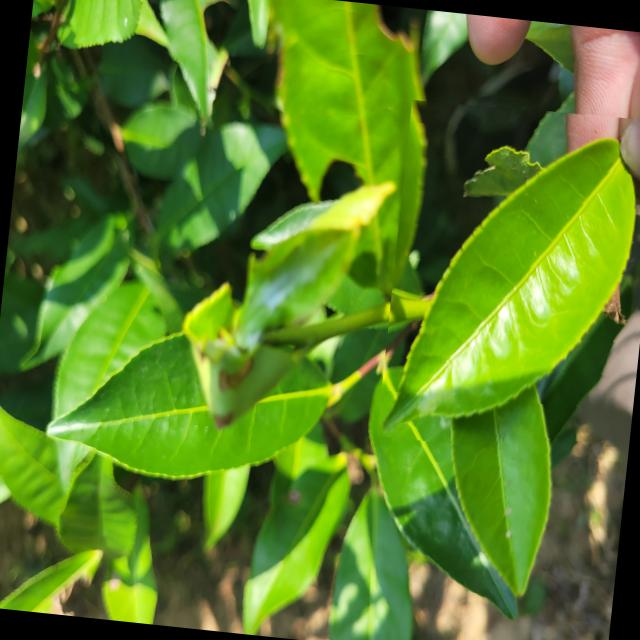Catagory A(1-2 days): (375, 94, 640, 461)
